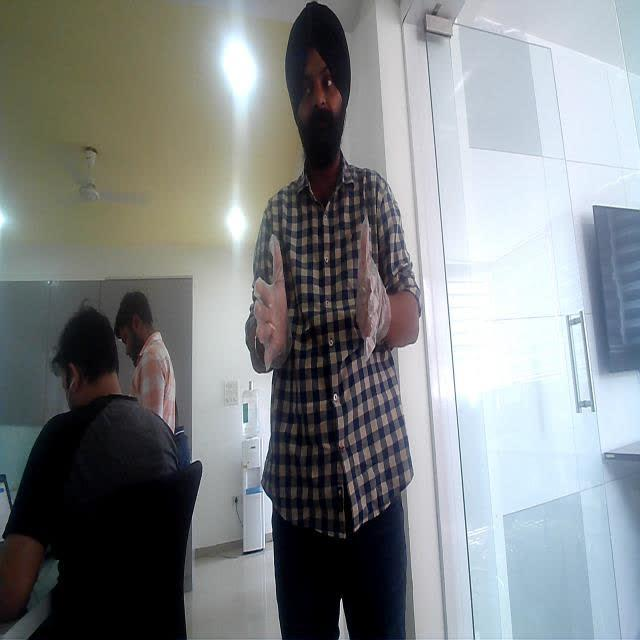with_gloves: (250, 234, 291, 374), (352, 224, 390, 358)
